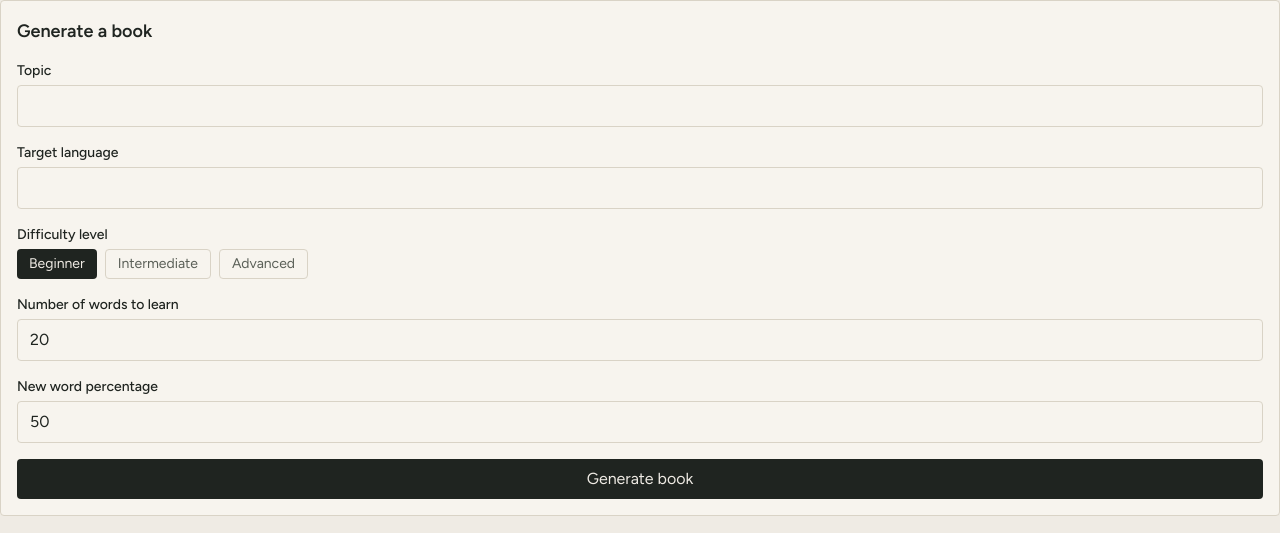
Test case: GenerateBookForm › the selected difficulty chip uses bg-ink/text-paper, not a progress color
Click the button "intermediate": (158, 264) x1=105 y1=249 x2=211 y2=279
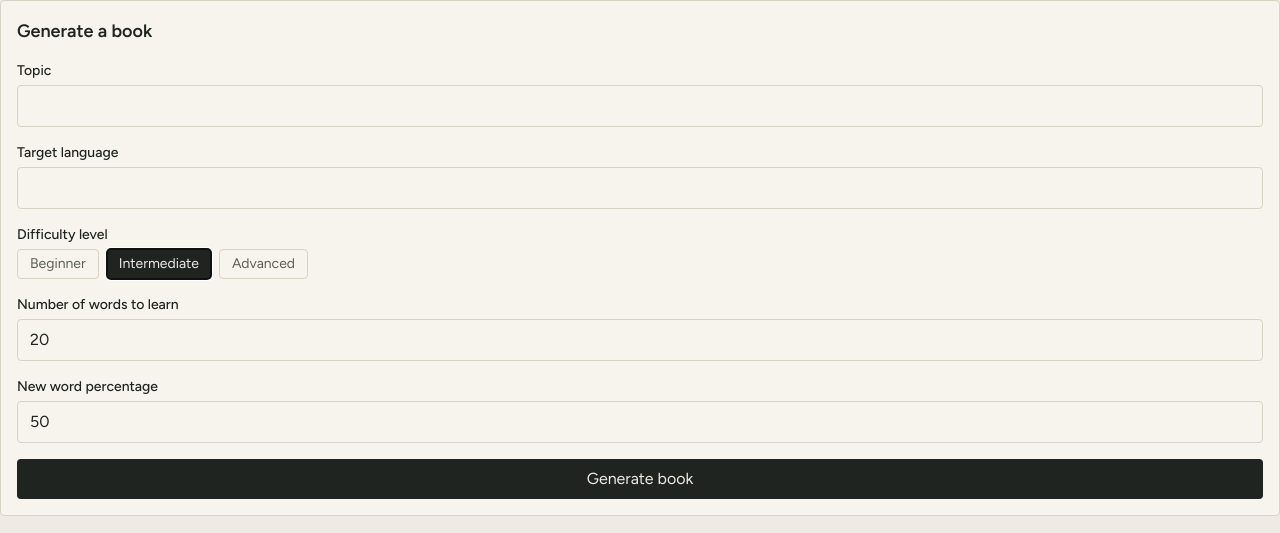
Check: the button "intermediate" has class "bg-ink", box x1=107 y1=249 x2=211 y2=279
Check: the button "beginner" has class "bg-surface", box x1=17 y1=249 x2=99 y2=279
Check: the button "beginner" has class "border-hairline", box x1=17 y1=249 x2=99 y2=279
